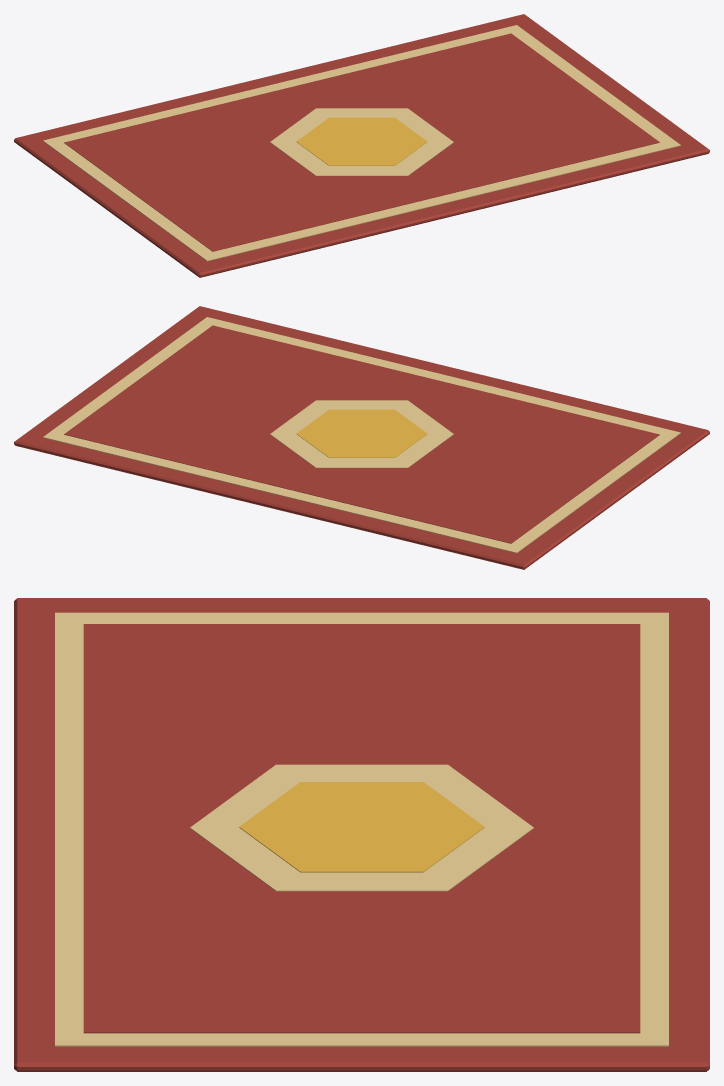
Rendered from rug.glb.
The picture shows the model from 3 angles, top to bottom: view 1: azimuth 30°, elevation 25°; view 2: azimuth 150°, elevation 25°; view 3: azimuth 270°, elevation 25°; orthographic projection. The views are drawn at different scales.
Parts seen in each view (by area): view 1: rug; view 2: rug; view 3: rug.
Part boxes in pixels (<box>): rug: <box>14,14,709,277</box>; rug: <box>14,306,709,569</box>; rug: <box>14,598,709,1071</box>.
Size of the model in its own units: 2.7 by 0.0345 by 1.7.
